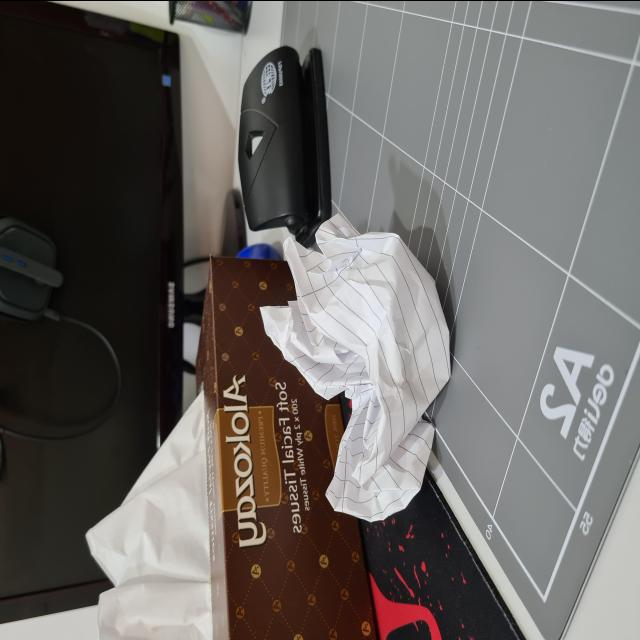kertas: (264, 214, 451, 523)
